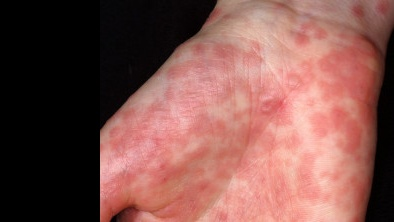SJS-TEN: (98, 1, 394, 222)
